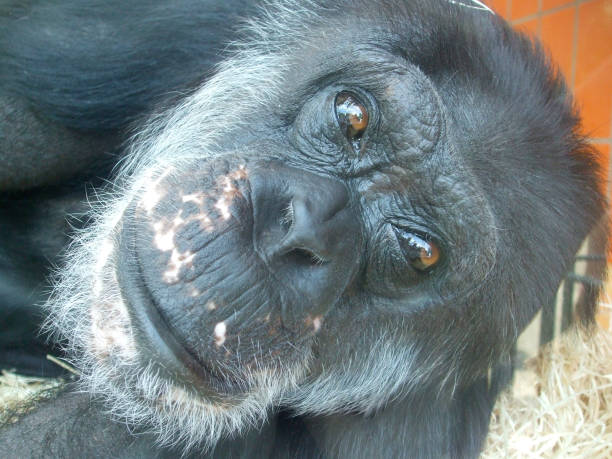chimpanzee: (56, 1, 612, 446)
